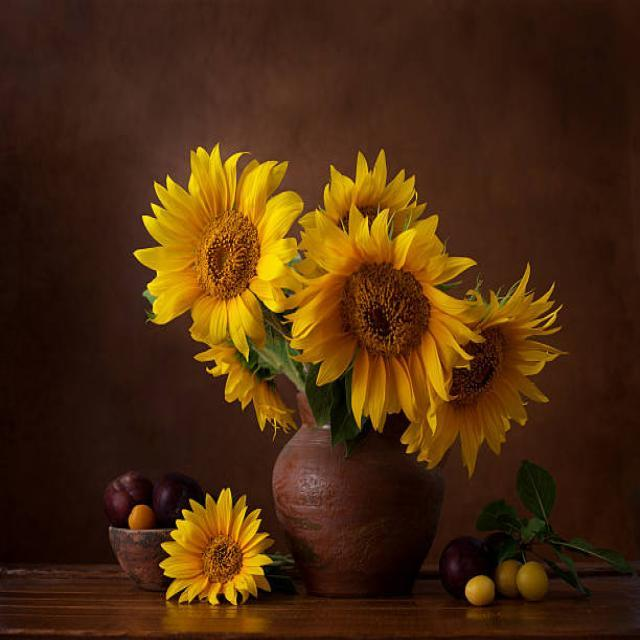sunflower: (281, 201, 481, 431), (132, 140, 304, 358), (399, 260, 567, 477), (158, 486, 274, 606), (296, 146, 426, 252), (188, 326, 298, 438)
